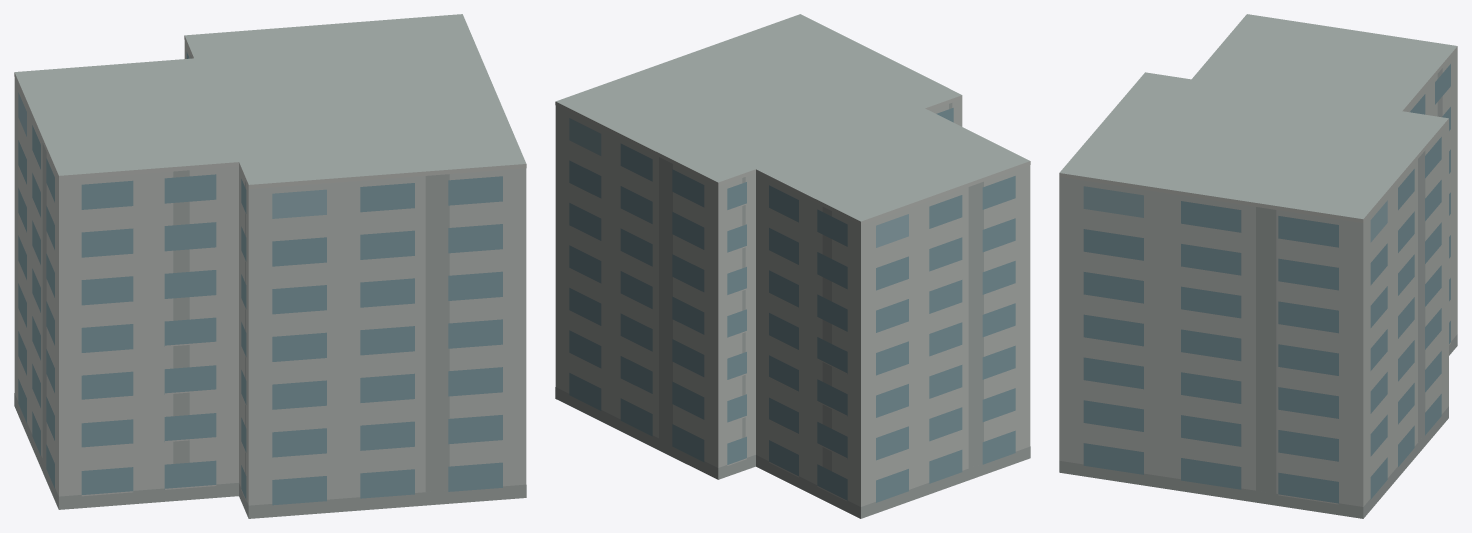
Rendered from survey-upis-32806045.glb.
The picture shows the model from 3 angles, left to right: view 1: azimuth 30°, elevation 25°; view 2: azimuth 150°, elevation 25°; view 3: azimuth 270°, elevation 25°; orthographic projection. The views are drawn at different scales.
Parts seen in each view (by area): view 1: survey-upis-32806045.tmp; view 2: survey-upis-32806045.tmp; view 3: survey-upis-32806045.tmp.
Boxes of the visible parts, left/top/right/bottom form: survey-upis-32806045.tmp: left=14, top=14, right=526, bottom=518; survey-upis-32806045.tmp: left=555, top=14, right=1030, bottom=518; survey-upis-32806045.tmp: left=1059, top=14, right=1457, bottom=518.
Size of the model in its own units: 26.88 by 18.3 by 22.06.
